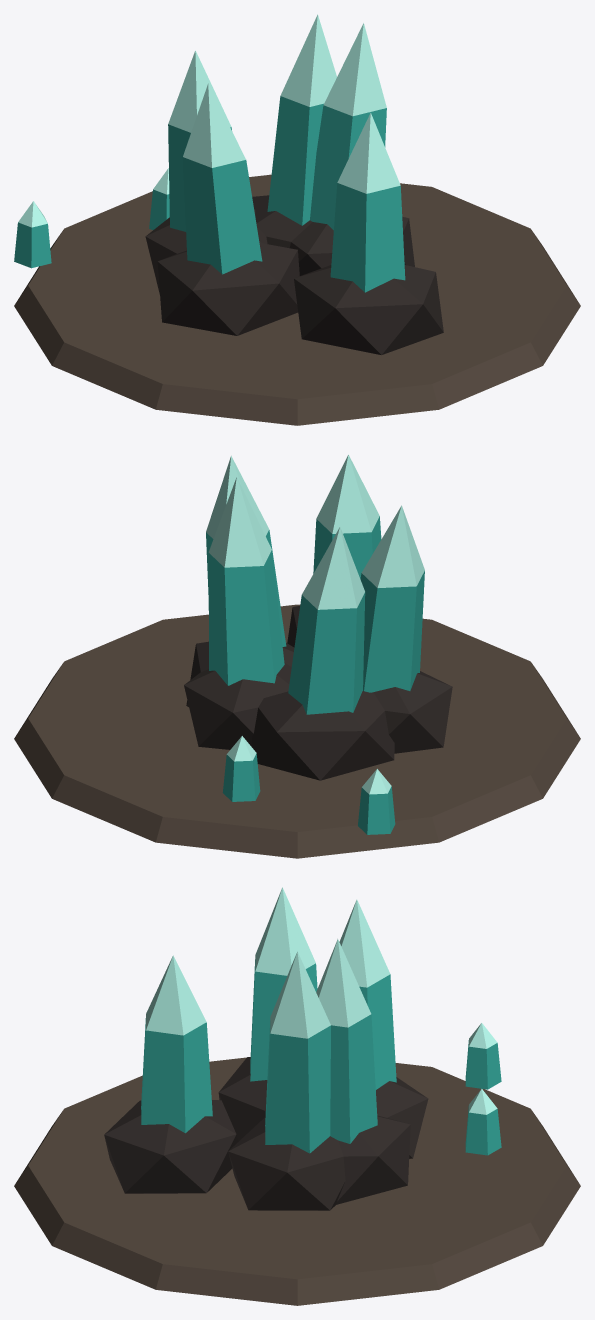
Rendered from Field_Crystal_2.fbx.
3 views of the same model, one above another, from view 1: azimuth 30°, elevation 25°; view 2: azimuth 150°, elevation 25°; view 3: azimuth 270°, elevation 25° (orthographic).
Parts seen in each view (by area): view 1: Field_Crystal_2; view 2: Field_Crystal_2; view 3: Field_Crystal_2.
Part boxes in pixels (box(x1,y1,x2,y2)): Field_Crystal_2: box(14, 14, 580, 425); Field_Crystal_2: box(14, 454, 580, 858); Field_Crystal_2: box(14, 887, 580, 1305).
Size of the model in its own units: 2 by 1.06 by 2.
1 material, 1 textured.
